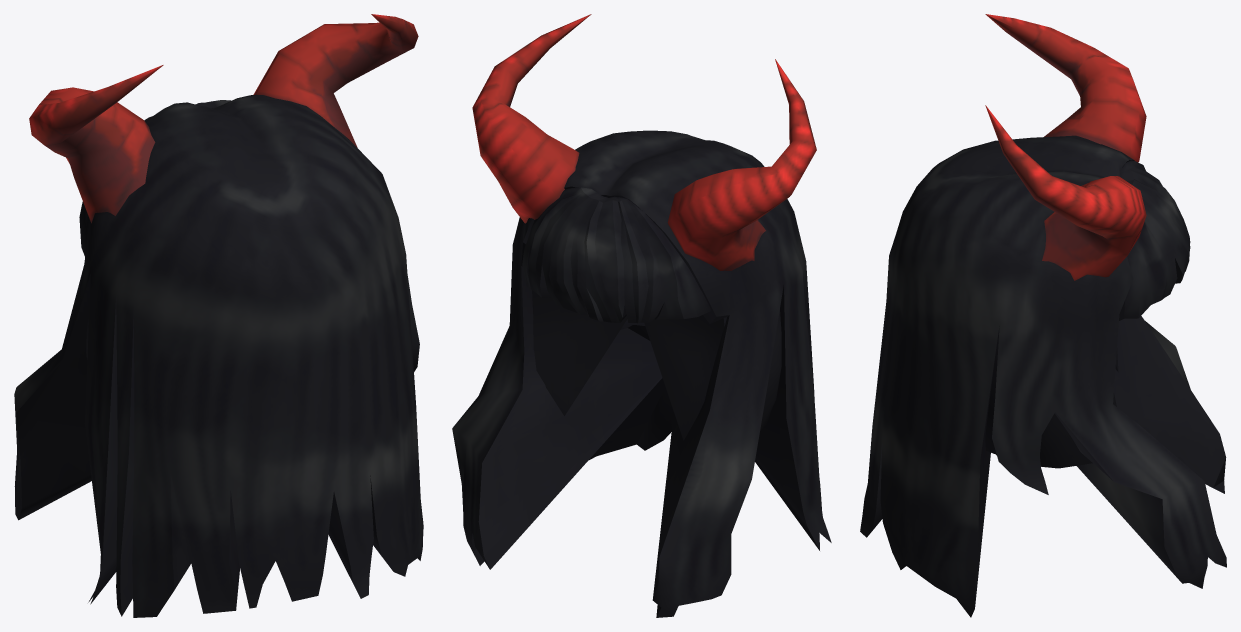
The picture shows the model from 3 angles, left to right: view 1: azimuth 30°, elevation 25°; view 2: azimuth 150°, elevation 25°; view 3: azimuth 270°, elevation 25°; orthographic projection. The views are drawn at different scales.
Parts seen in each view (by area): view 1: geometry_0; view 2: geometry_0; view 3: geometry_0.
Boxes of the visible parts, <box> form: geometry_0: <box>14,14,423,617</box>; geometry_0: <box>452,14,831,617</box>; geometry_0: <box>860,14,1226,617</box>.
Bounding box in the file's own units: 2.07 × 3.02 × 2.03.
Materials: 1 (1 with a texture image).
